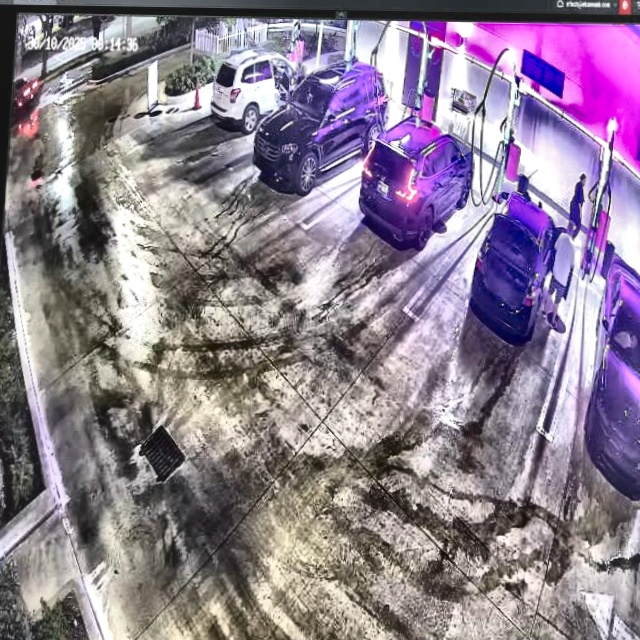Car: (249, 60, 391, 188), (358, 117, 476, 250), (478, 192, 558, 339)
